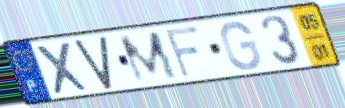3: (261, 14, 302, 67)
F: (163, 24, 203, 81)
G: (218, 19, 263, 72)
M: (117, 29, 182, 87)
V: (72, 33, 115, 92)
X: (32, 39, 92, 97)
